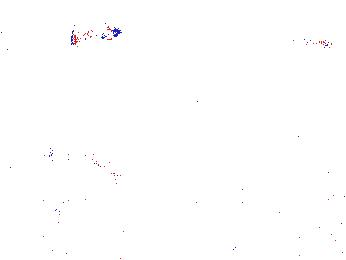X-ray fish: (83, 233, 127, 259)
glassfish: (41, 136, 140, 196)
red belly glassfish: (283, 33, 331, 52)
redtail glassfish: (69, 14, 123, 46), (1, 26, 22, 59)
